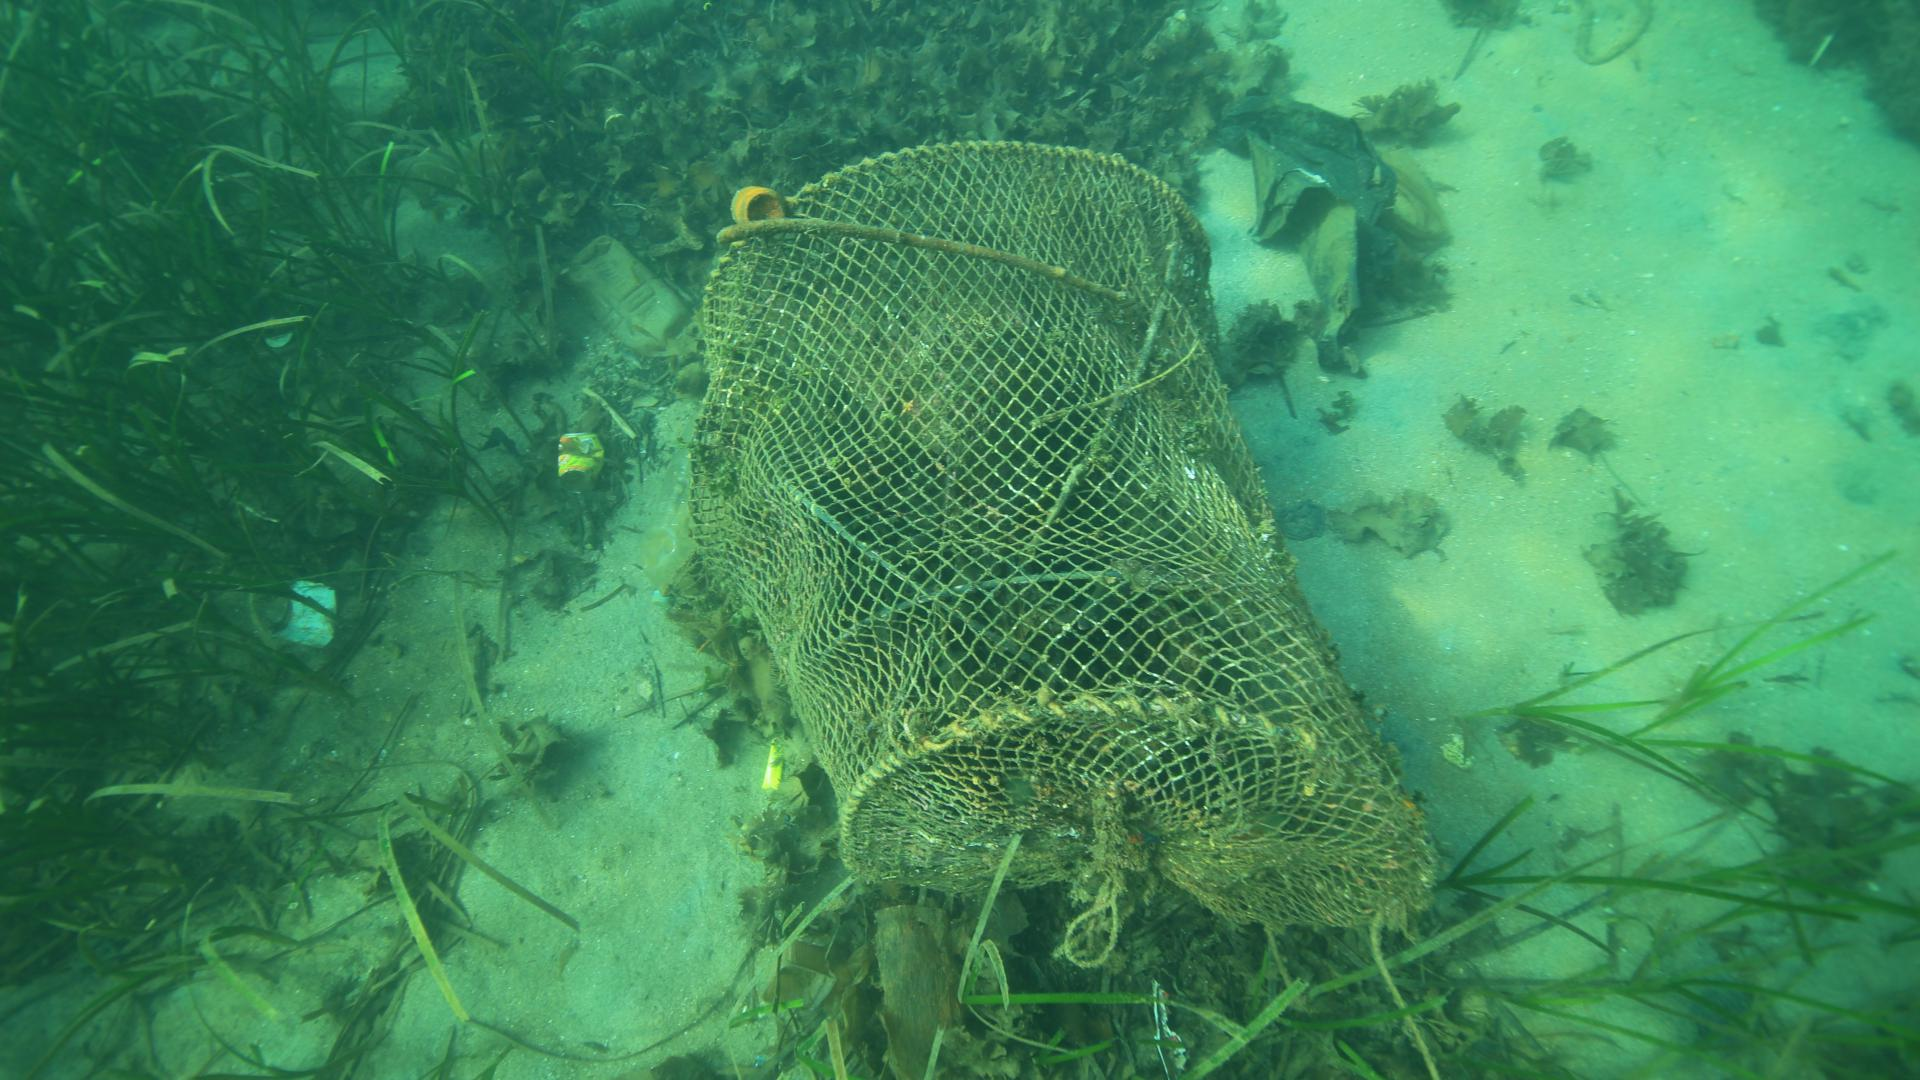spring fish trap: (684, 141, 1443, 940)
